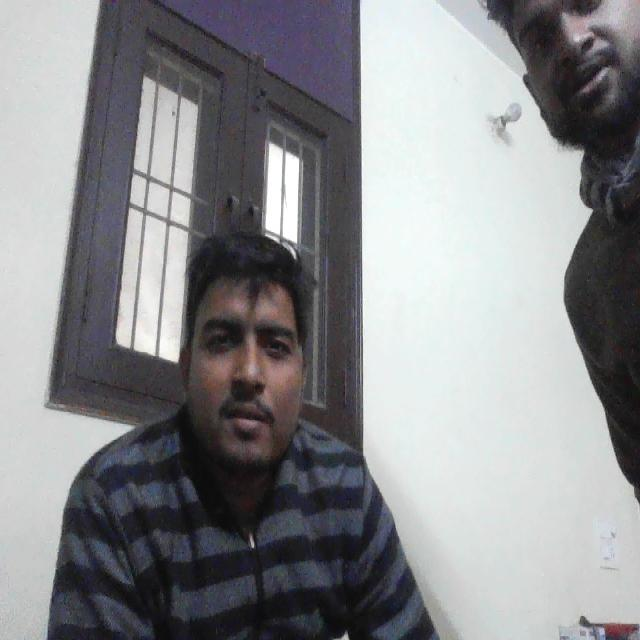real: (174, 201, 327, 491)
